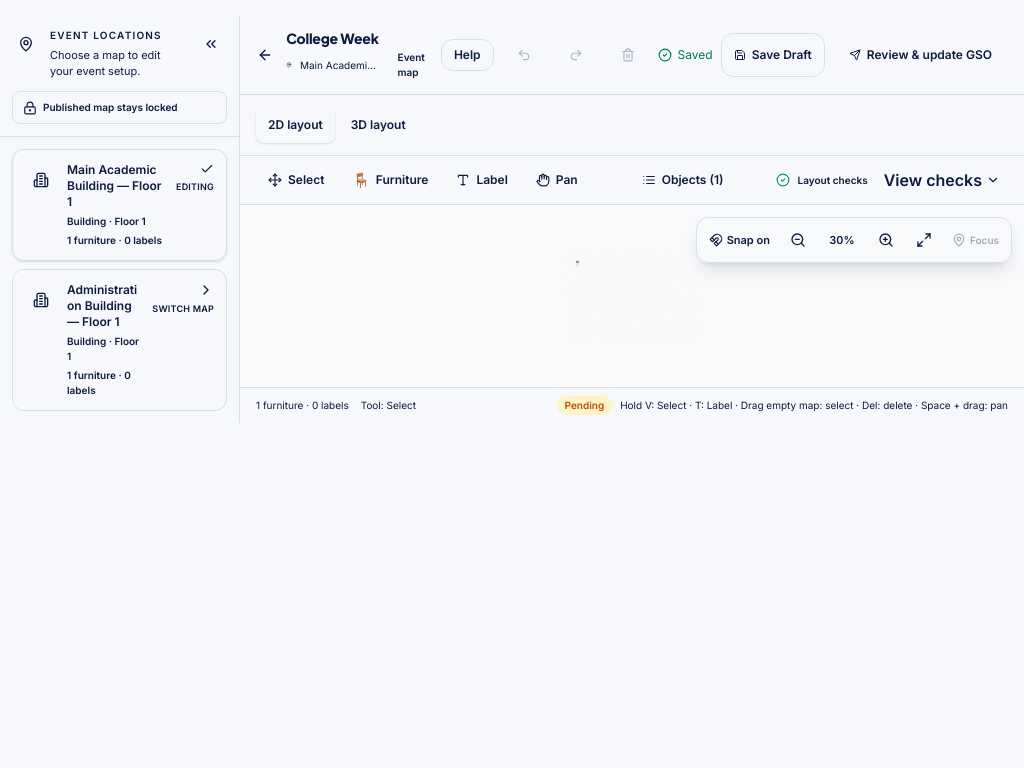
StudentEventEditPage pending interaction boundaries › keeps the leave prompt open when Save Draft fails
Expected: the element with test id "event-furniture-a-chair" is shown, [574,260,581,267]
Click the button with aria-label "Toggle snapping": (739, 240) [701,222,778,258]
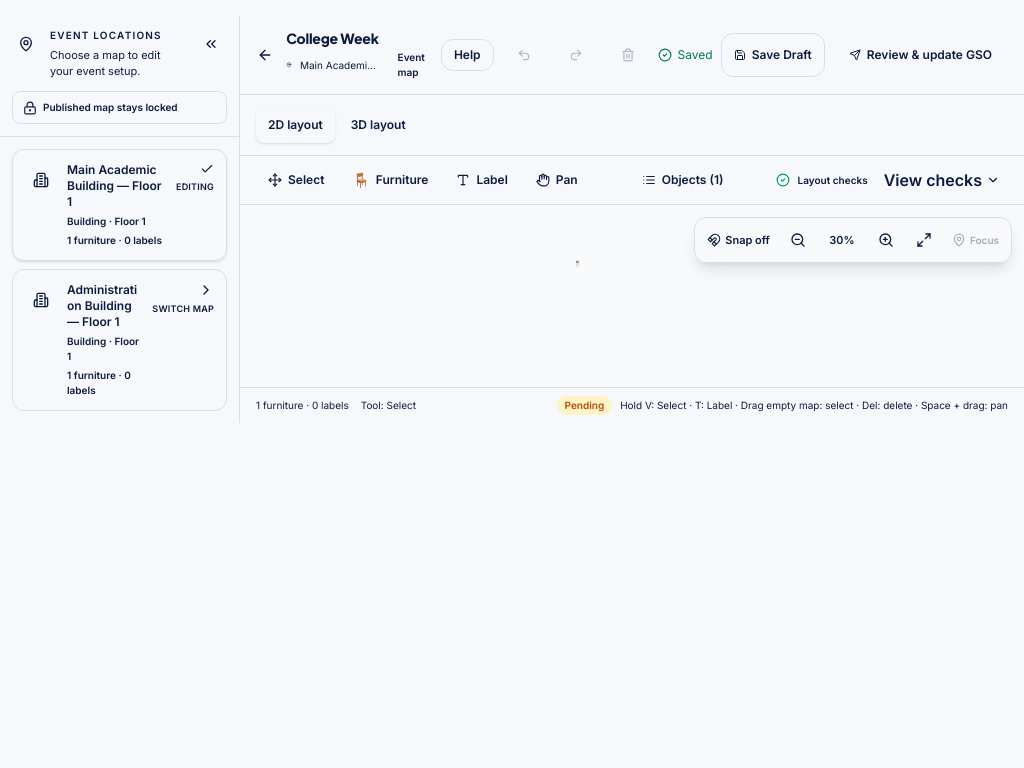
Press the mouse on the element with test id "event-furniture-a-chair": (577, 264) [574,260,581,267]
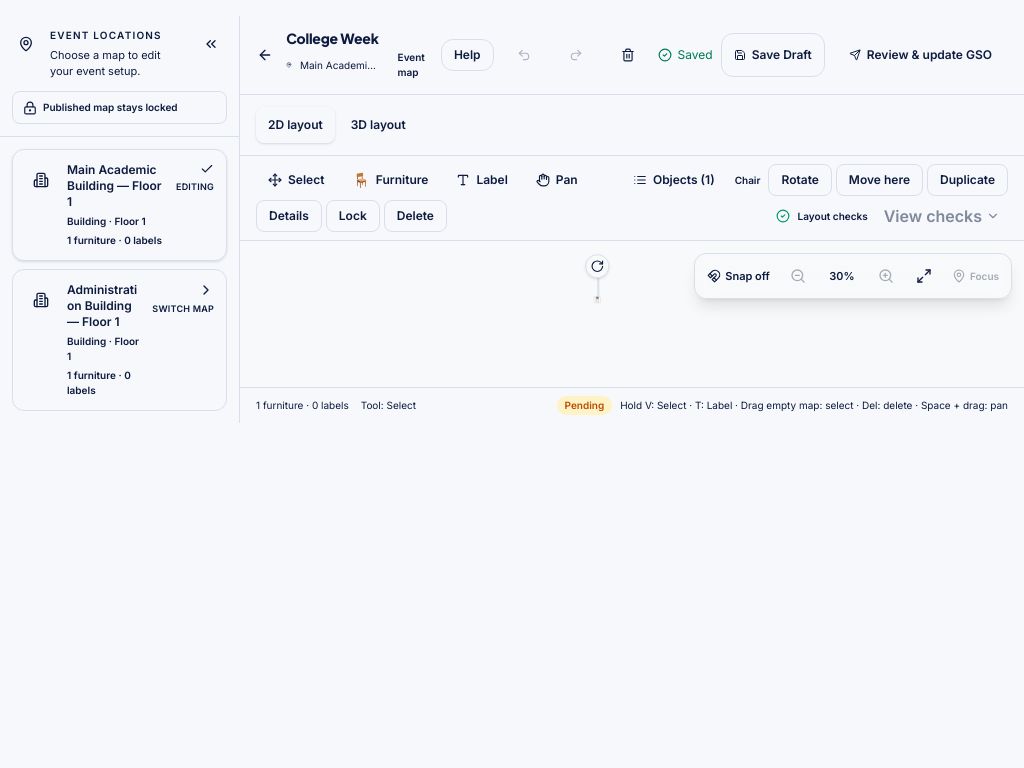
Click the button named "Back to My Events": (265, 55) [256,39,274,71]
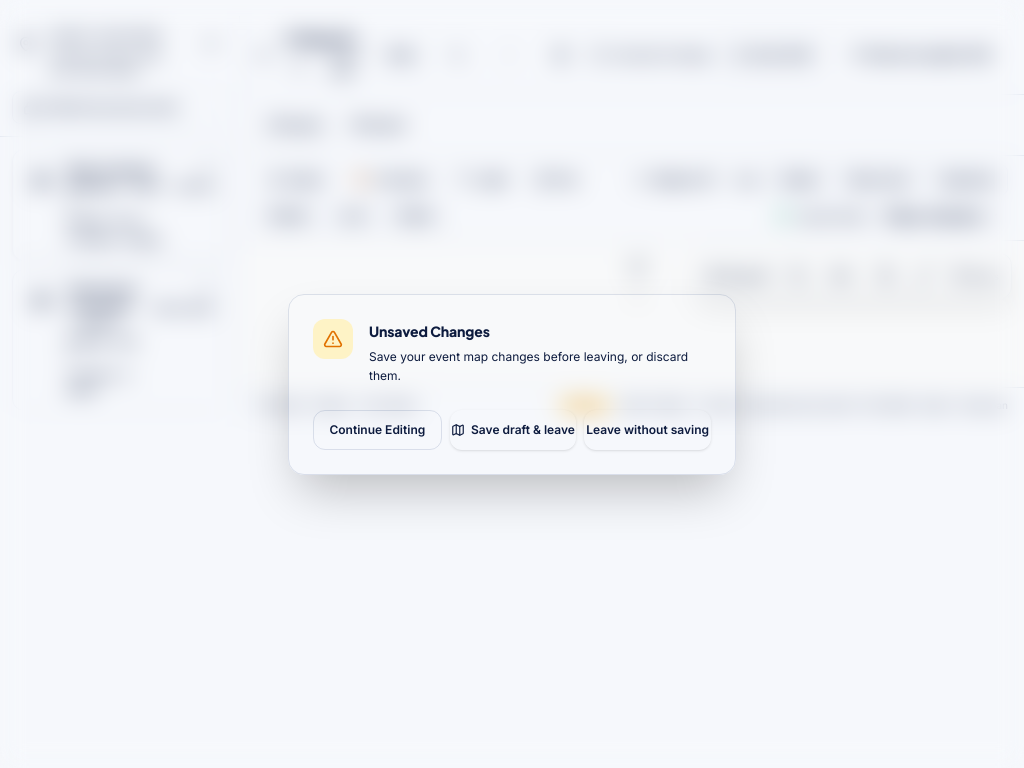
Click the button "Save draft & leave": (513, 430) [450,410,576,450]
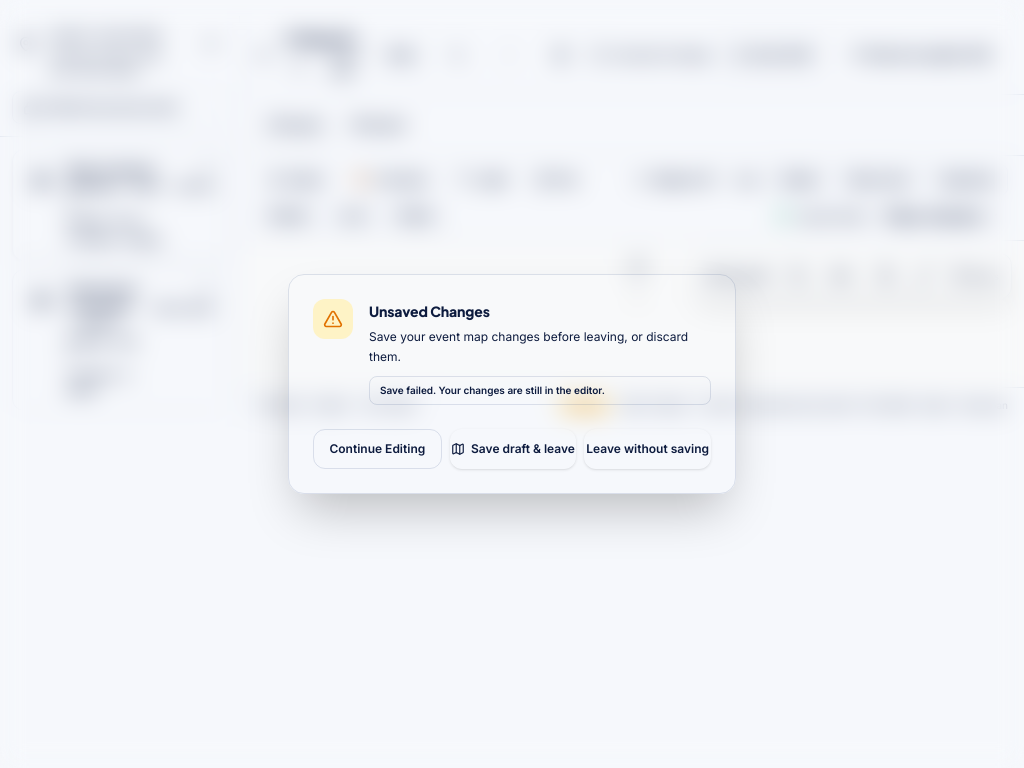
Expected: the text "Save failed. Your changes are still in the editor." is shown, [369,376,711,405]
